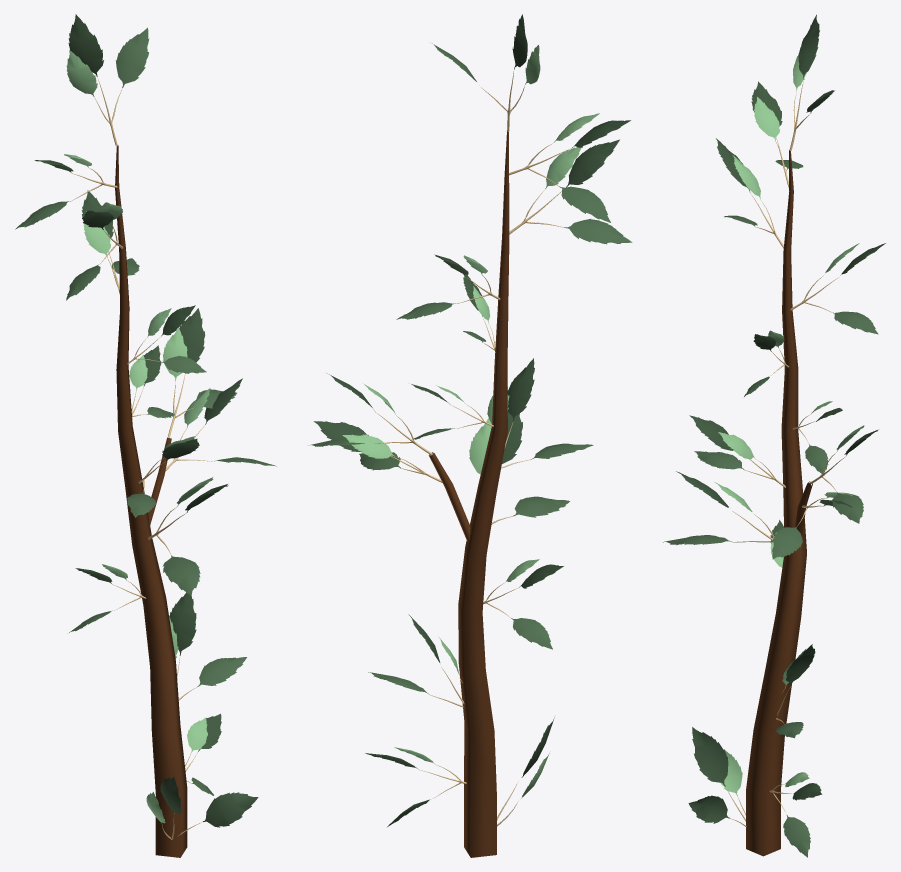
File: Tree15.fbx
3 views of the same model, side by side, from view 1: azimuth 30°, elevation 25°; view 2: azimuth 150°, elevation 25°; view 3: azimuth 270°, elevation 25° (orthographic). The views are drawn at different scales.
Parts seen in each view (by area): view 1: Árbol.002, Hojas|tree|Dupli|5, Hojas|tree|Dupli|6, Hojas|tree|Dupli|7, Hojas|tree|Dupli|10, Hojas|tree|Dupli|, Hojas|tree|Dupli|1, Hojas|tree|Dupli|4, Hojas|tree|Dupli|12, Hojas|tree|Dupli|8, Hojas|tree|Dupli|3, Hojas|tree|Dupli|2 (+3 smaller); view 2: Árbol.002, Hojas|tree|Dupli|8, Hojas|tree|Dupli|, Hojas|tree|Dupli|13, Hojas|tree|Dupli|4, Hojas|tree|Dupli|2, Hojas|tree|Dupli|9, Hojas|tree|Dupli|5, Hojas|tree|Dupli|12, Hojas|tree|Dupli|6, Hojas|tree|Dupli|10, Hojas|tree|Dupli|11 (+2 smaller); view 3: Árbol.002, Hojas|tree|Dupli|7, Hojas|tree|Dupli|2, Hojas|tree|Dupli|11, Hojas|tree|Dupli|5, Hojas|tree|Dupli|13, Hojas|tree|Dupli|, Hojas|tree|Dupli|8, Hojas|tree|Dupli|12, Hojas|tree|Dupli|10, Hojas|tree|Dupli|4, Hojas|tree|Dupli|6 (+2 smaller).
Part boxes in pixels (left/top/right/bottom): Árbol.002: left=115, top=145, right=187, bottom=857; Hojas|tree|Dupli|5: left=66, top=14, right=149, bottom=145; Hojas|tree|Dupli|6: left=169, top=592, right=246, bottom=700; Hojas|tree|Dupli|7: left=146, top=777, right=258, bottom=839; Hojas|tree|Dupli|10: left=163, top=308, right=236, bottom=437; Hojas|tree|Dupli|: left=148, top=477, right=228, bottom=595; Hojas|tree|Dupli|1: left=127, top=305, right=206, bottom=373; Hojas|tree|Dupli|4: left=165, top=378, right=276, bottom=471; Hojas|tree|Dupli|12: left=81, top=190, right=139, bottom=294; Hojas|tree|Dupli|8: left=66, top=202, right=123, bottom=300; Hojas|tree|Dupli|3: left=129, top=345, right=174, bottom=418; Hojas|tree|Dupli|2: left=127, top=436, right=199, bottom=517; Árbol.002: left=428, top=131, right=509, bottom=857; Hojas|tree|Dupli|8: left=509, top=139, right=632, bottom=244; Hojas|tree|Dupli|: left=469, top=411, right=569, bottom=524; Hojas|tree|Dupli|13: left=509, top=113, right=630, bottom=222; Hojas|tree|Dupli|4: left=313, top=421, right=442, bottom=482; Hojas|tree|Dupli|2: left=487, top=358, right=593, bottom=468; Hojas|tree|Dupli|9: left=483, top=559, right=563, bottom=649; Hojas|tree|Dupli|5: left=432, top=14, right=540, bottom=131; Hojas|tree|Dupli|12: left=396, top=254, right=500, bottom=319; Hojas|tree|Dupli|6: left=368, top=614, right=464, bottom=707; Hojas|tree|Dupli|10: left=309, top=373, right=432, bottom=454; Hojas|tree|Dupli|11: left=365, top=747, right=466, bottom=826; Árbol.002: left=746, top=150, right=812, bottom=856; Hojas|tree|Dupli|7: left=688, top=727, right=746, bottom=827; Hojas|tree|Dupli|2: left=689, top=415, right=785, bottom=487; Hojas|tree|Dupli|11: left=769, top=772, right=822, bottom=857; Hojas|tree|Dupli|5: left=789, top=14, right=834, bottom=150; Hojas|tree|Dupli|13: left=751, top=81, right=803, bottom=187; Hojas|tree|Dupli|: left=663, top=471, right=774, bottom=545; Hojas|tree|Dupli|8: left=716, top=138, right=783, bottom=247; Hojas|tree|Dupli|12: left=790, top=243, right=885, bottom=334; Hojas|tree|Dupli|10: left=810, top=425, right=878, bottom=523; Hojas|tree|Dupli|4: left=772, top=492, right=852, bottom=559; Hojas|tree|Dupli|6: left=775, top=644, right=815, bottom=738.
Size of the model in its own units: 148 by 458 by 116.
